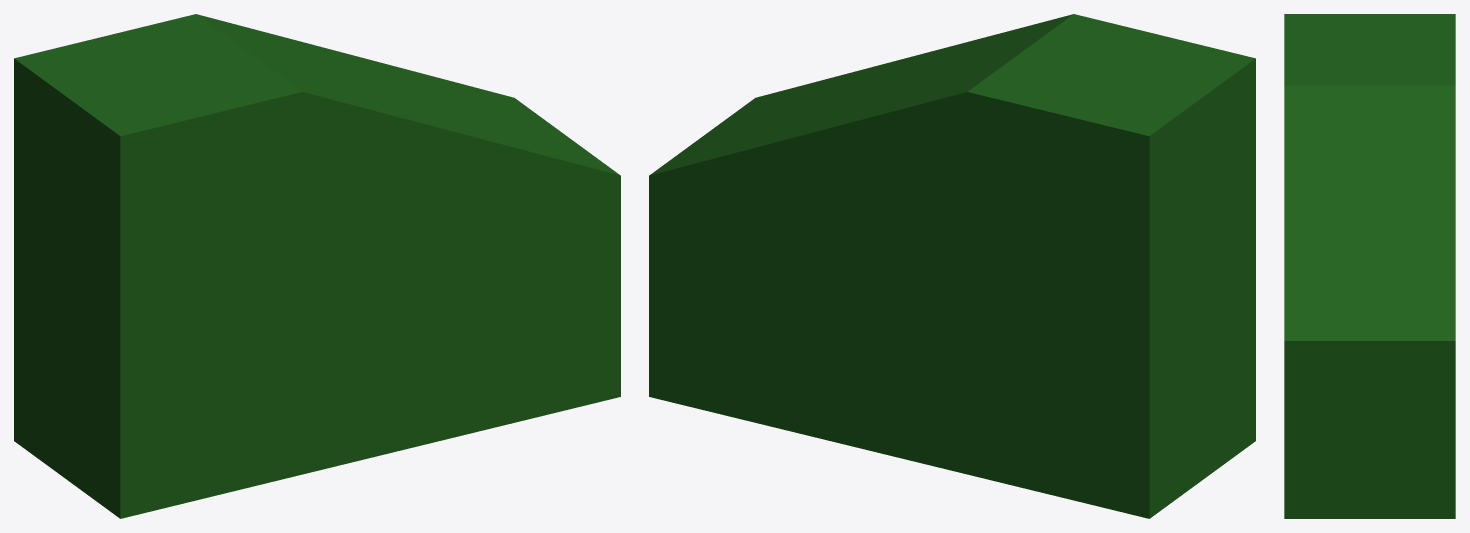
Rendered from Ammo Pickup.fbx.
3 renders of one model, left to right at view 1: azimuth 30°, elevation 25°; view 2: azimuth 150°, elevation 25°; view 3: azimuth 270°, elevation 25°, orthographic. The views are drawn at different scales.
Parts seen in each view (by area): view 1: Cube; view 2: Cube; view 3: Cube.
Part boxes in pixels (<box>): Cube: <box>14,14,620,518</box>; Cube: <box>649,14,1255,518</box>; Cube: <box>1284,14,1455,518</box>.
Bounding box in the file's own units: 2697 × 1970 × 993.
